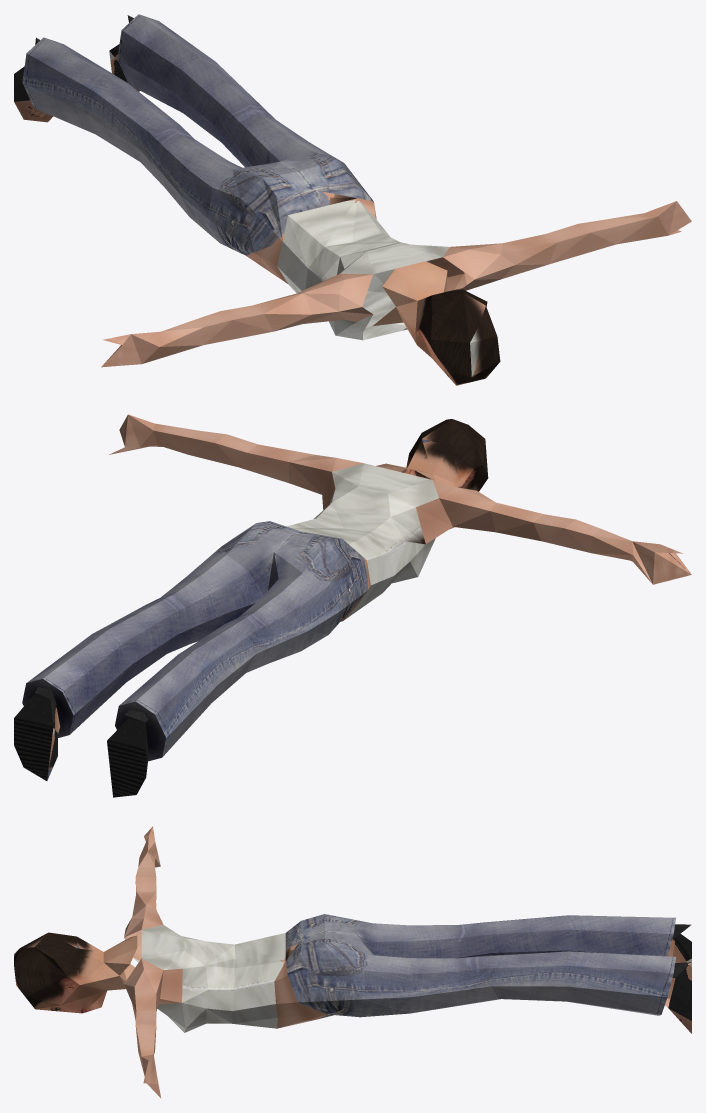
File: tomdrinwoman1_3klow_wtf.obj
3 views of the same model, one above another, from view 1: azimuth 30°, elevation 25°; view 2: azimuth 150°, elevation 25°; view 3: azimuth 270°, elevation 25° (orthographic). The views are drawn at different scales.
Visible parts, largest first — view 1: group1; view 2: group1; view 3: group1.
Boxes of the visible parts, x1,y1,x2,y2 form: group1: (14, 14, 691, 385); group1: (14, 414, 691, 797); group1: (14, 826, 691, 1098).
Size of the model in its own units: 559 by 99.49 by 660.
